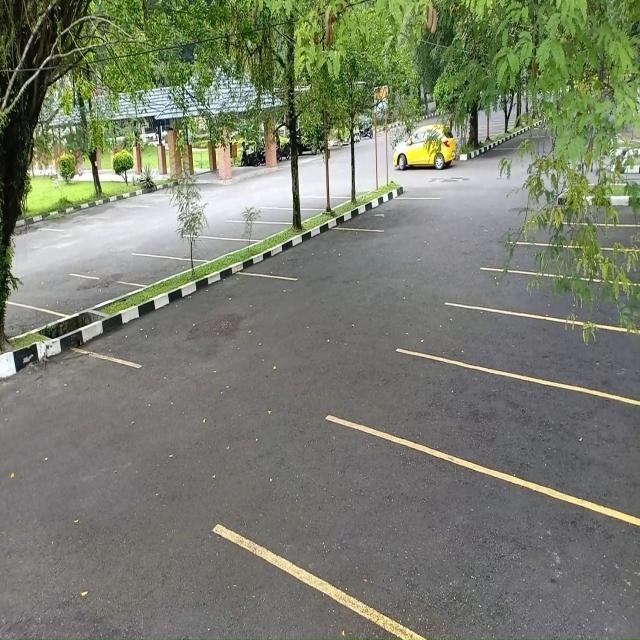empty: (365, 467, 640, 640), (430, 388, 640, 503), (136, 278, 272, 367), (484, 318, 640, 392), (279, 231, 375, 280), (16, 278, 110, 316), (353, 203, 437, 234), (104, 254, 180, 287), (181, 239, 245, 265), (222, 219, 279, 242)
